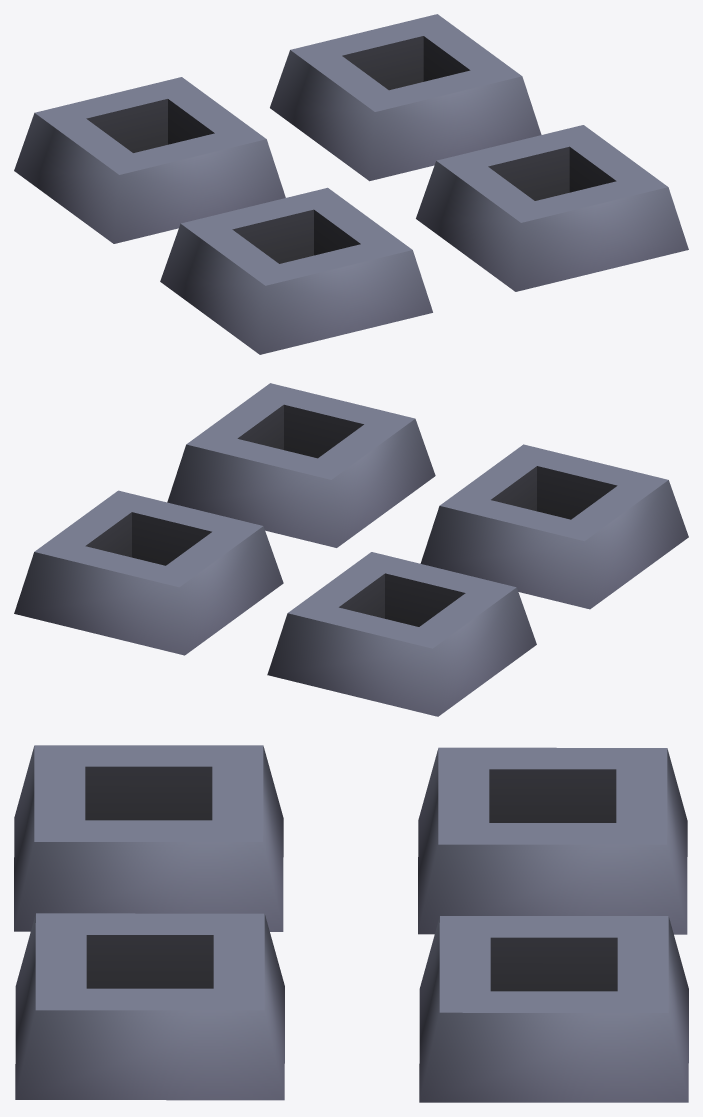
Rendered from trap.003_lev5.glb.
3 renders of one model, top to bottom at view 1: azimuth 30°, elevation 25°; view 2: azimuth 150°, elevation 25°; view 3: azimuth 270°, elevation 25°, orthographic. The views are drawn at different scales.
Visible parts, largest first — view 1: trap.003_lev5; view 2: trap.003_lev5; view 3: trap.003_lev5.
Part boxes in pixels (x1=…): trap.003_lev5: x1=14, y1=14, x2=688, y2=354; trap.003_lev5: x1=14, y1=383, x2=688, y2=716; trap.003_lev5: x1=14, y1=745, x2=688, y2=1102.
Bounding box in the file's own units: 2.55 × 0.34 × 2.56.
Materials: 1 (1 with a texture image).
